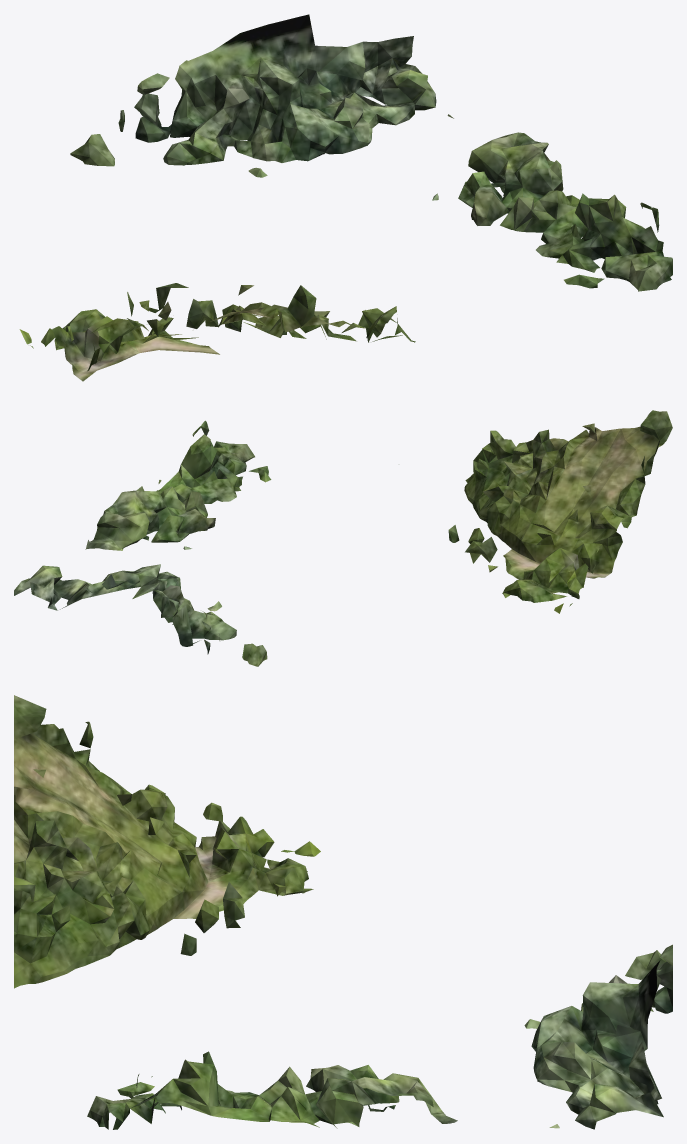
3 views of the same model, one above another, from view 1: azimuth 30°, elevation 25°; view 2: azimuth 150°, elevation 25°; view 3: azimuth 270°, elevation 25° (orthographic). The views are drawn at different scales.
Bounding box in the file's own units: 209 × 56.07 × 209.
2 materials, 2 textured.
